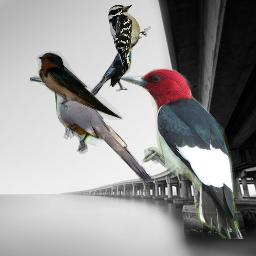Crow: (89, 35, 142, 97)
Cuckoo: (30, 75, 156, 186)
Swallow: (36, 51, 123, 120)
Woodpecker: (116, 68, 247, 239), (107, 3, 151, 75)
